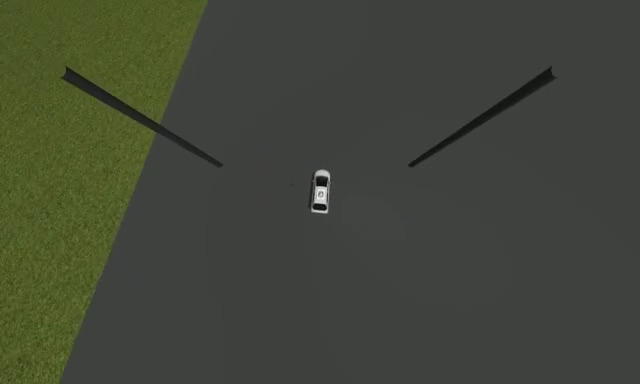Car: (309, 168, 332, 215)
Landing Pad: (317, 188, 326, 202)
